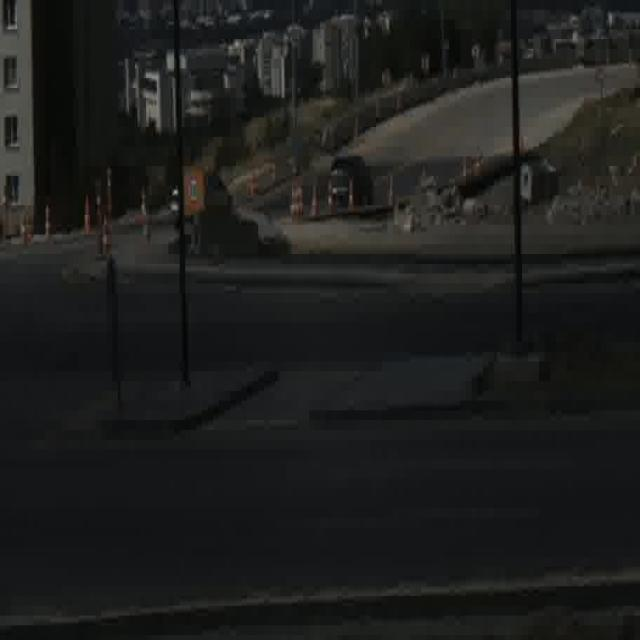Car: (171, 174, 231, 230), (327, 154, 375, 206)
